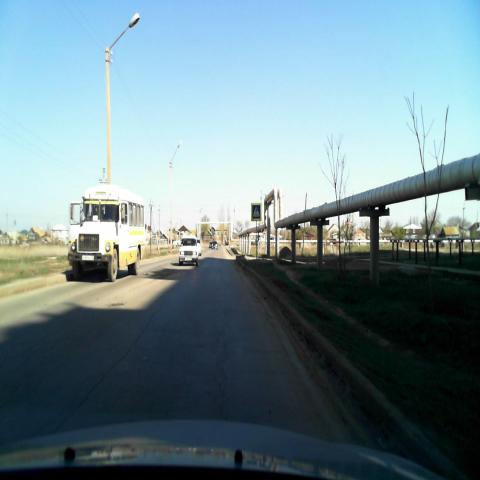5_19_1: (251, 204, 261, 222)
